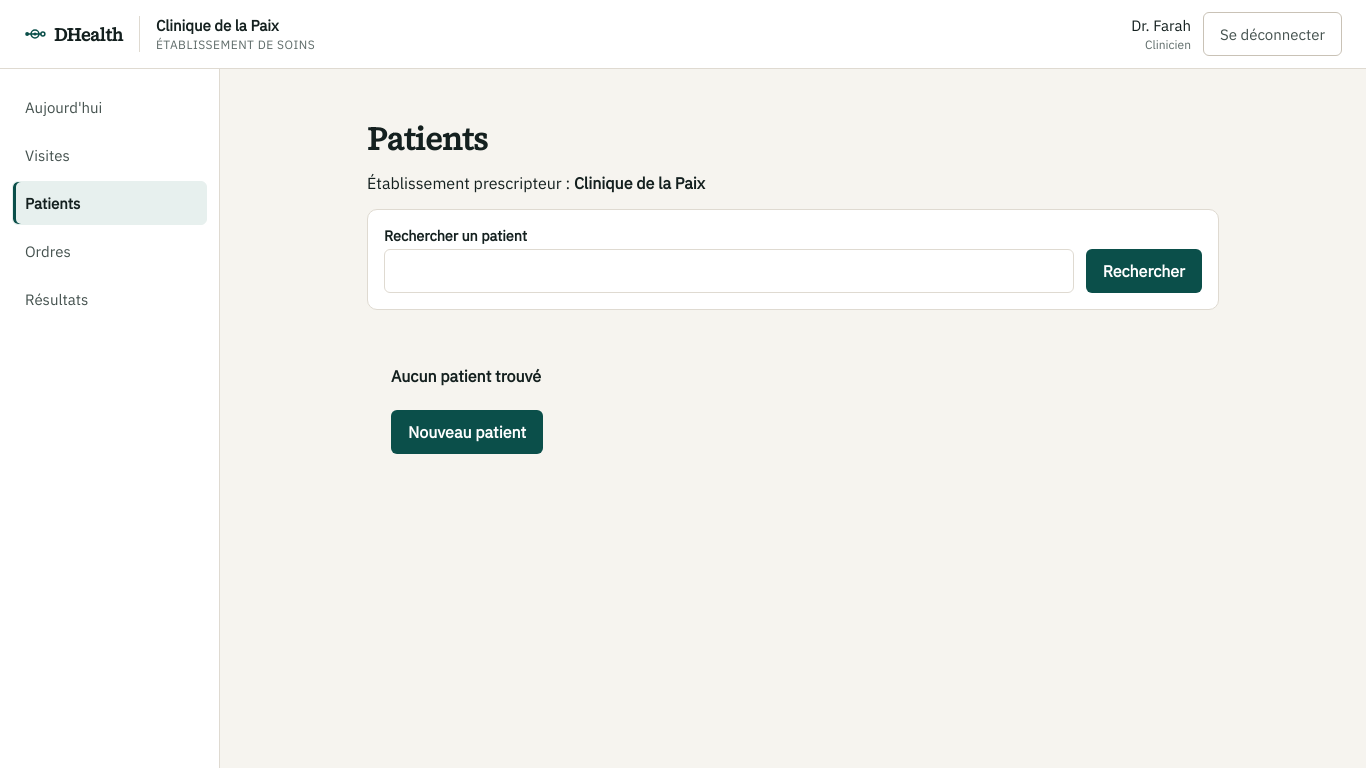
Clinic Accessibility › Clinic patient creation form has no detectable axe violations
The width and height of the screenshot is (1366, 768).
Expected: the text "Aucun patient trouvé" is shown, [391,366,541,386]
Click the button "Nouveau patient" at [467, 432], box [391,410,543,454]
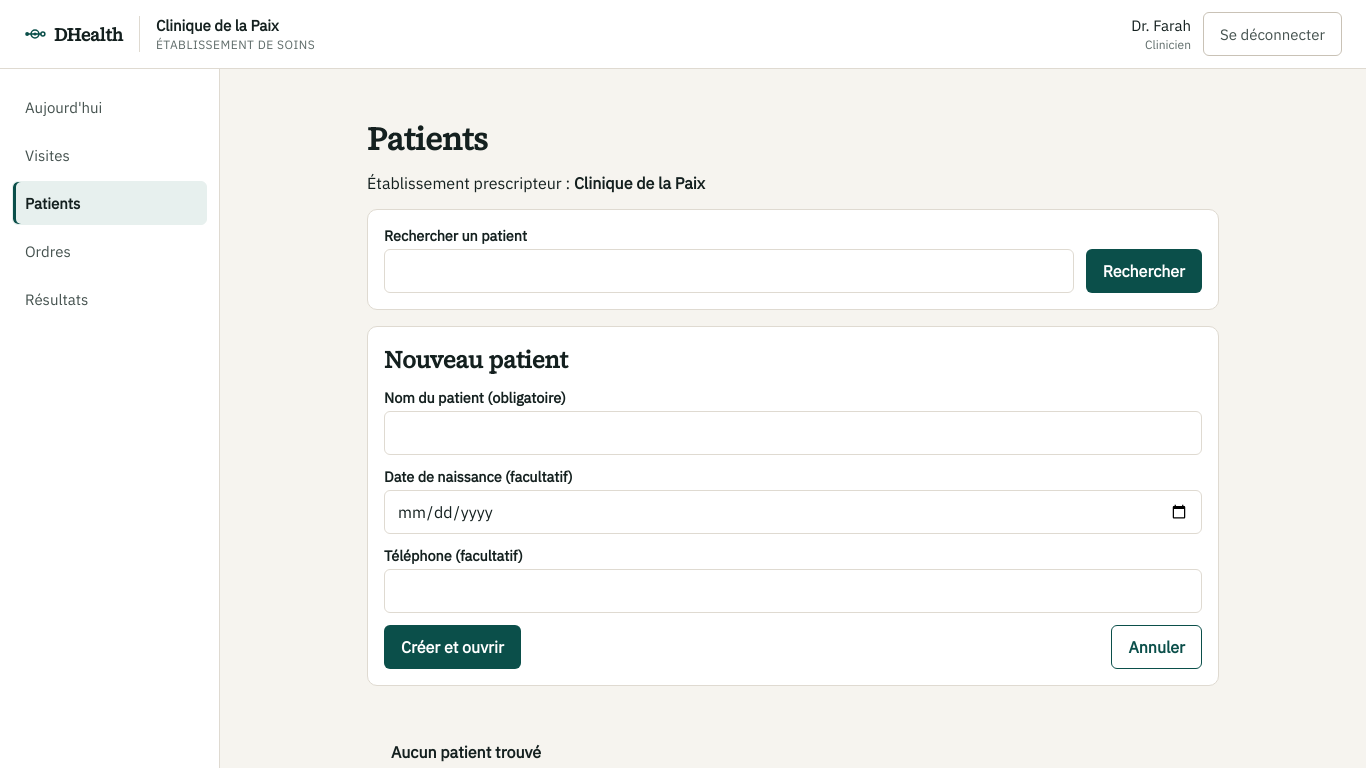
Expected: the heading "Nouveau patient" is shown, [384,343,568,376]
